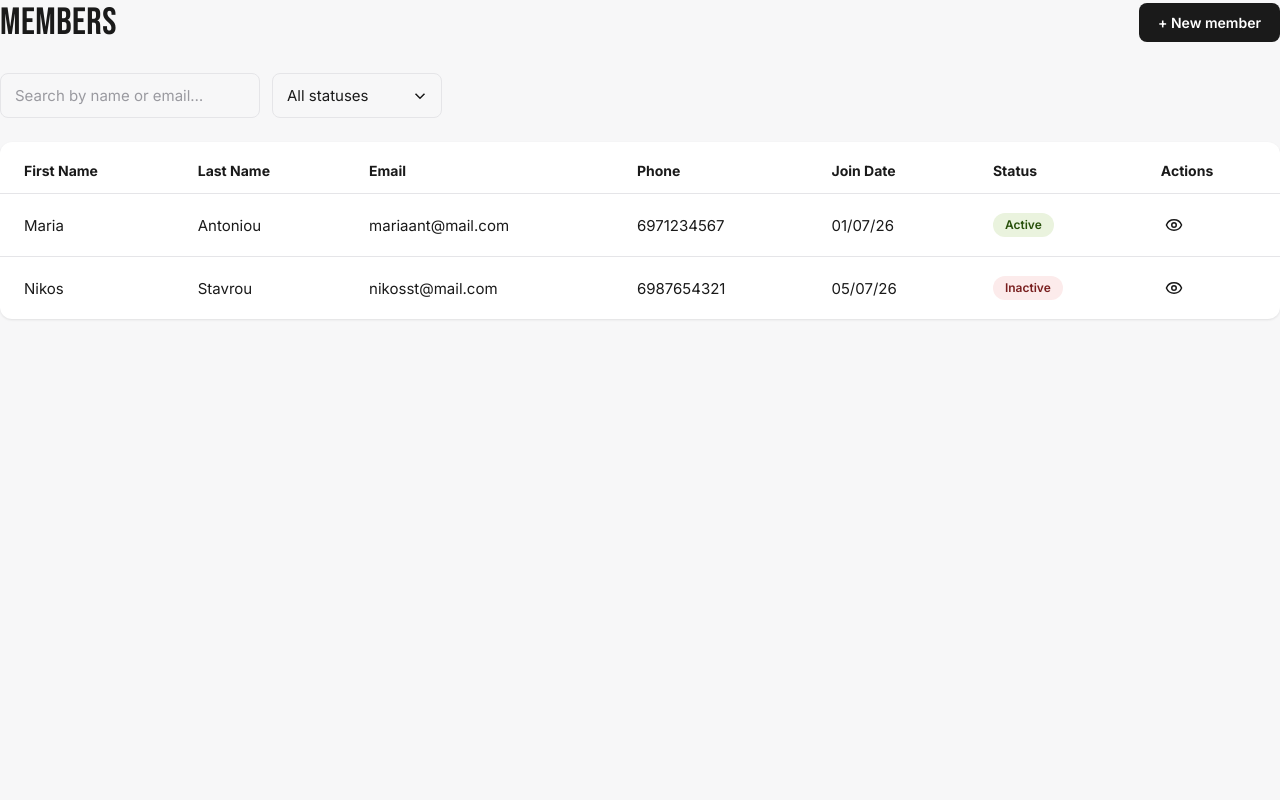
MemberListPage › creates a new member from the modal and shows a confirmation toast
Expected: the text "Antoniou" is shown, [174,194,345,256]
Click the button "+ New member": (1210, 22) [1139,3,1279,42]
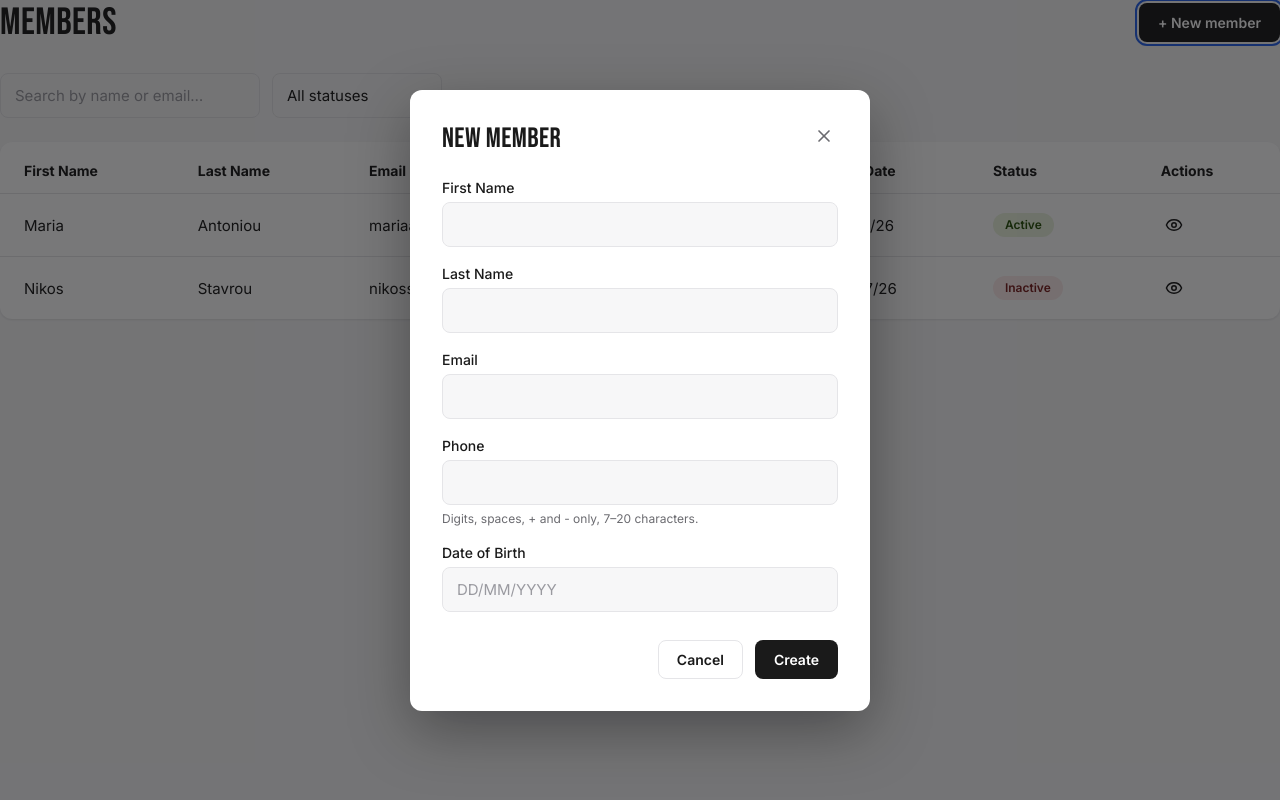
Now the dialog "New Member" is shown, box [410,90,870,710]
In the field labelled "First Name": (640, 224) [442,202,838,246], type "Eleni"
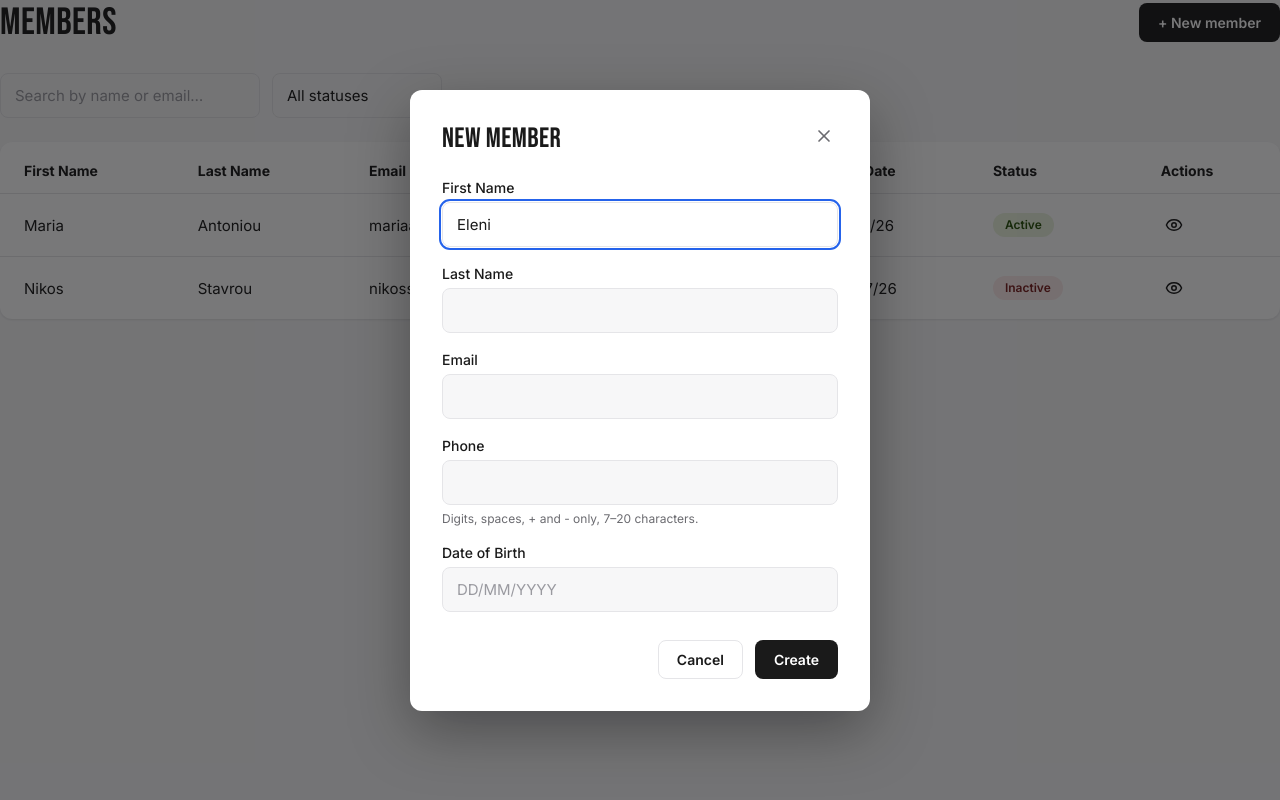
In the field labelled "Last Name": (640, 310) [442,288,838,332], type "Georgiou"
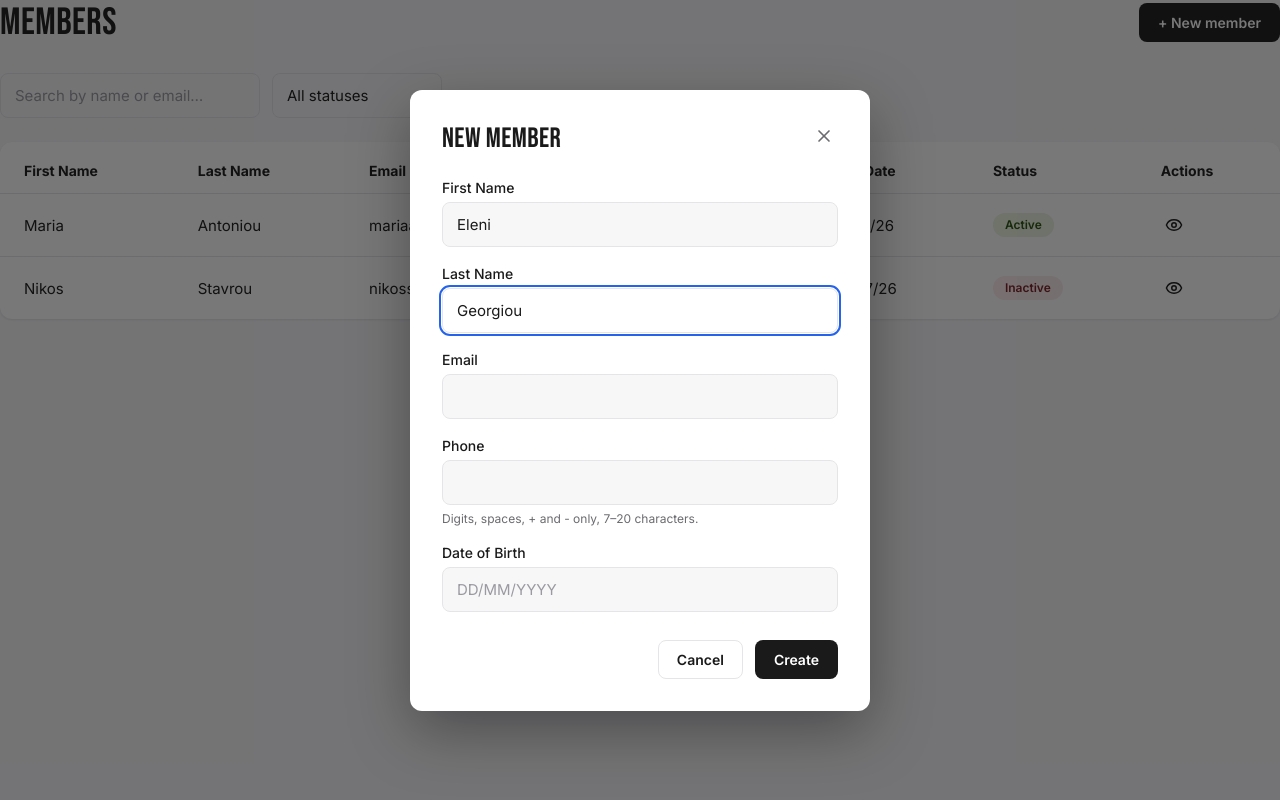
In the field labelled "Email": (640, 396) [442,374,838,418], type "eleni@mail.com"
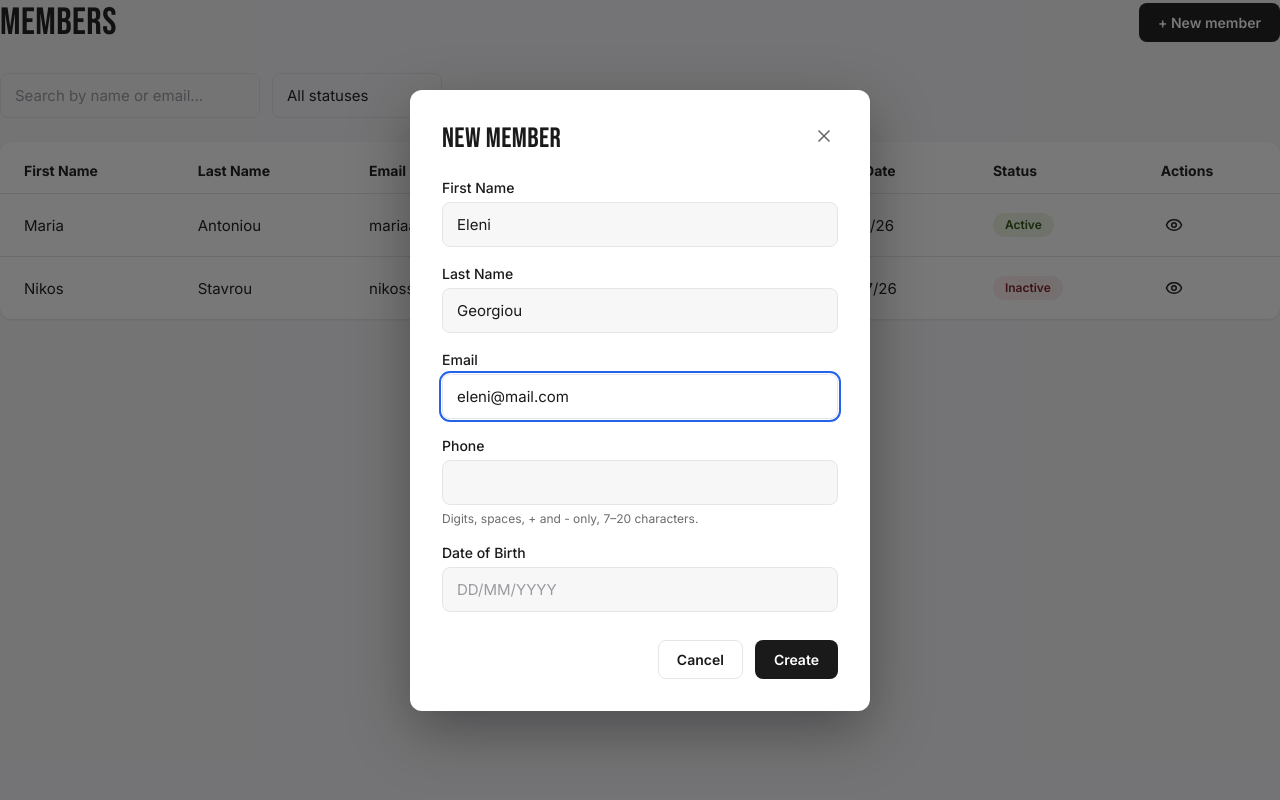
In the field labelled "Phone": (640, 482) [442,460,838,504], type "6900000000"
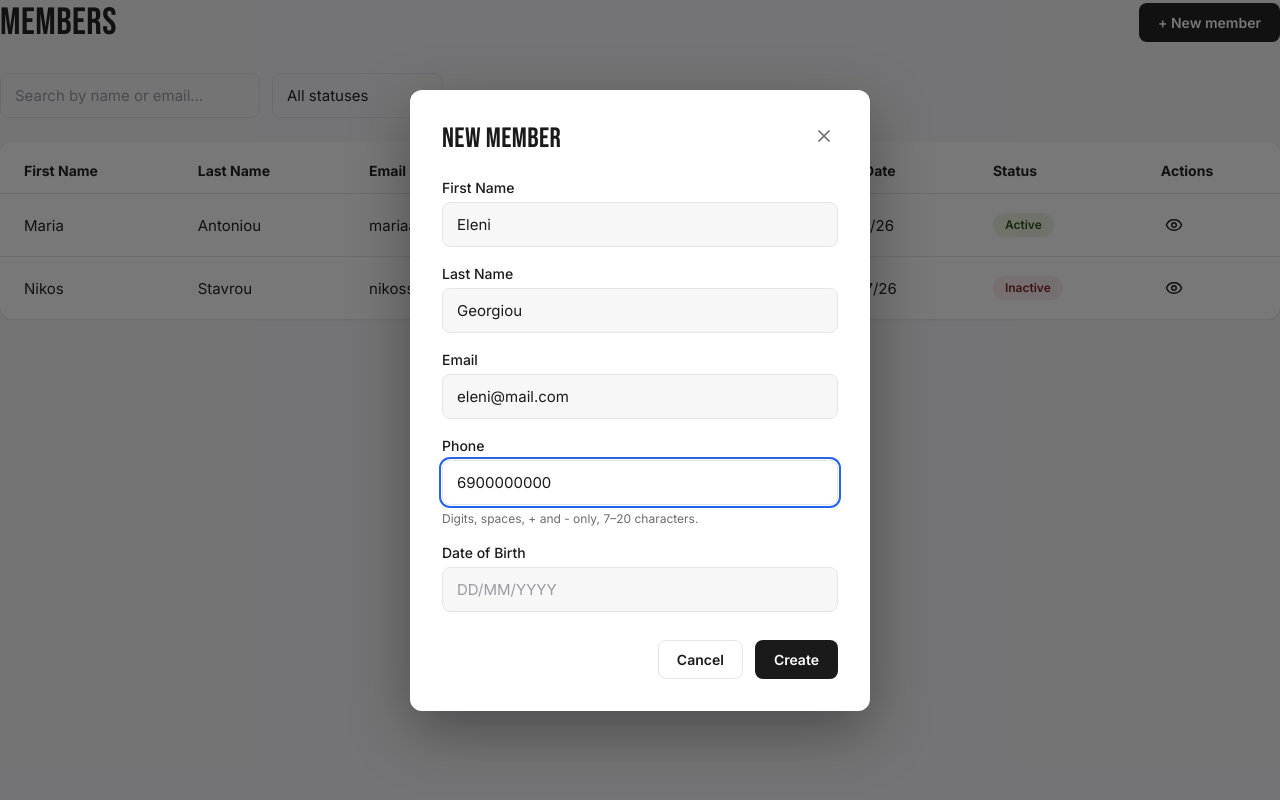
Click the button "Create": (796, 659) [755,640,838,678]
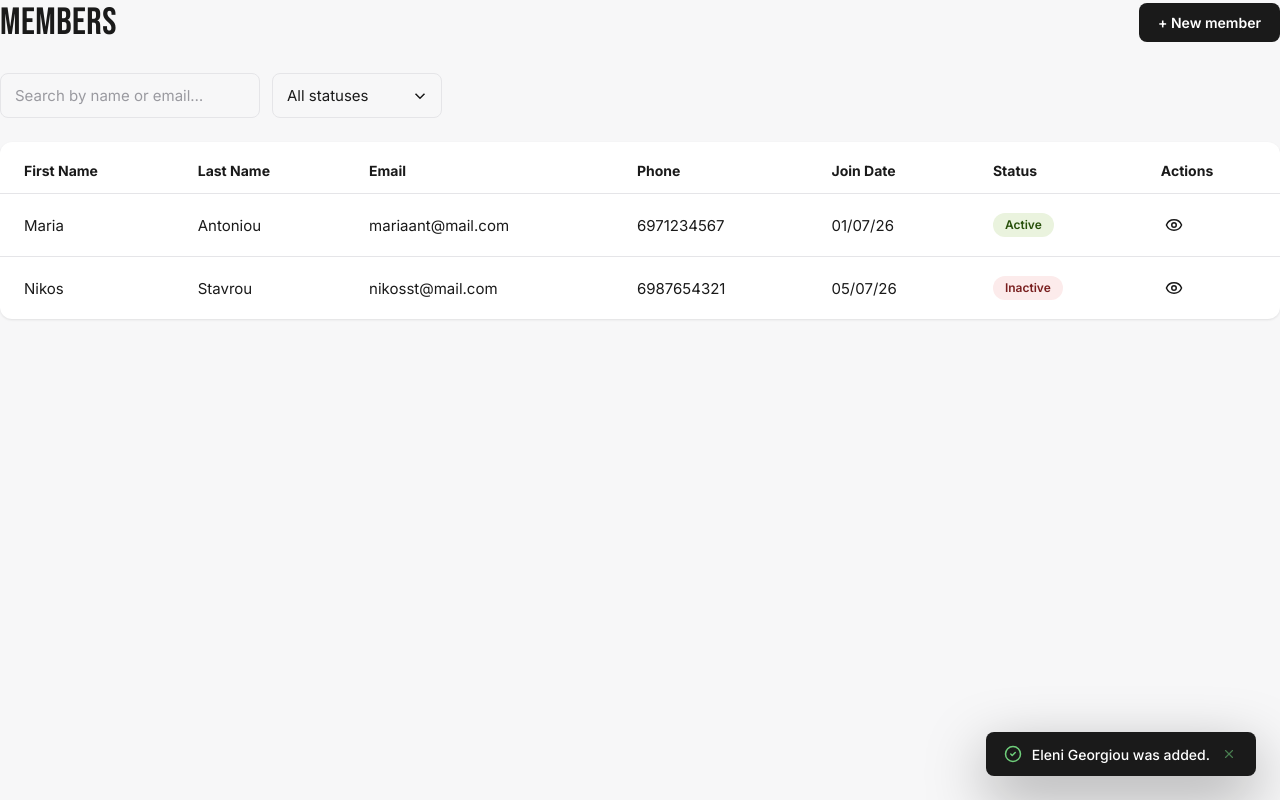
Now the text "Eleni Georgiou was added." is shown, box [1032,746,1210,762]
